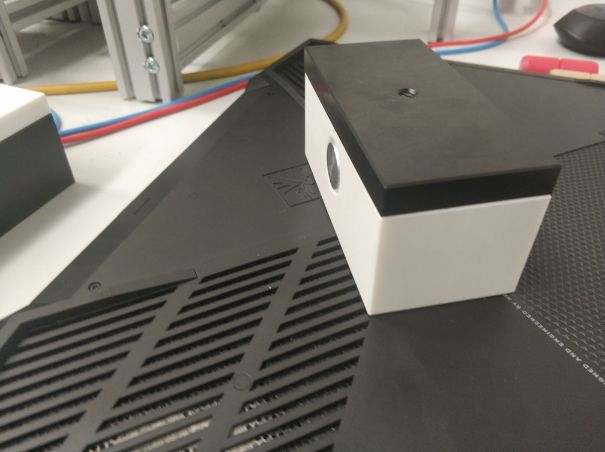black+white+silver: (294, 34, 568, 322)
